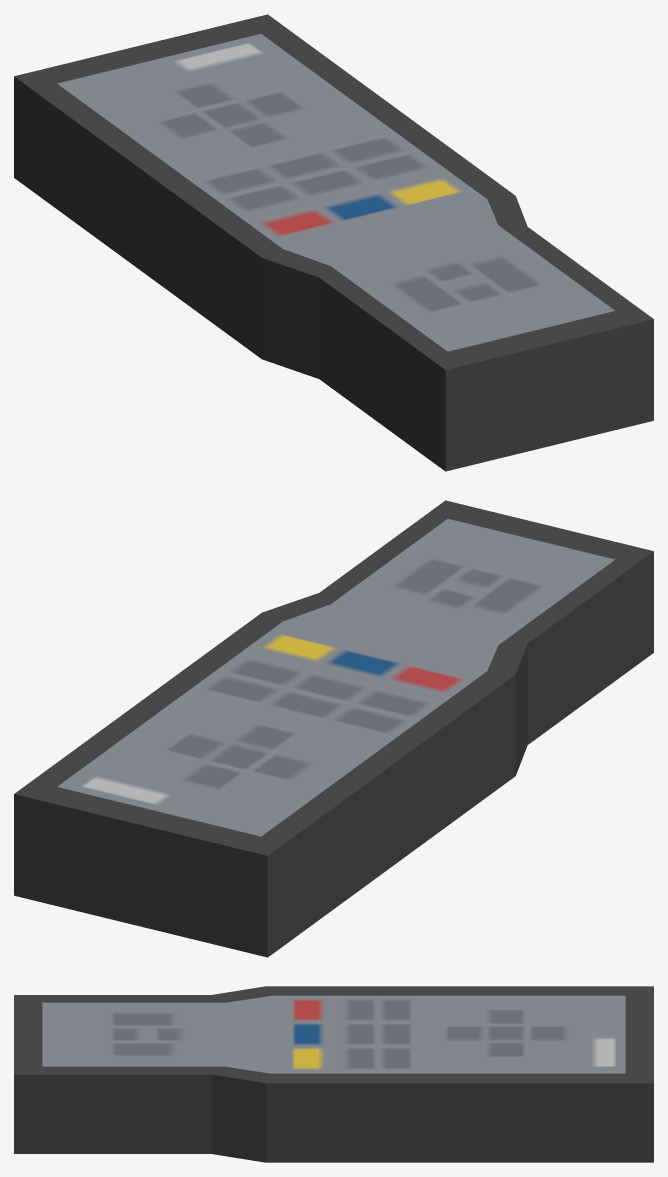
File: SM_Prop_Television_Remote_02.fbx
3 renders of one model, top to bottom at view 1: azimuth 30°, elevation 25°; view 2: azimuth 150°, elevation 25°; view 3: azimuth 270°, elevation 25°, orthographic. The views are drawn at different scales.
Visible parts, largest first — view 1: SM_Prop_Television_Remote_02; view 2: SM_Prop_Television_Remote_02; view 3: SM_Prop_Television_Remote_02.
Boxes of the visible parts, x1,y1,x2,y2 form: SM_Prop_Television_Remote_02: (14, 14, 653, 471); SM_Prop_Television_Remote_02: (14, 500, 653, 957); SM_Prop_Television_Remote_02: (14, 986, 653, 1162).
Size of the model in its own units: 10.52 by 4.02 by 29.36.
